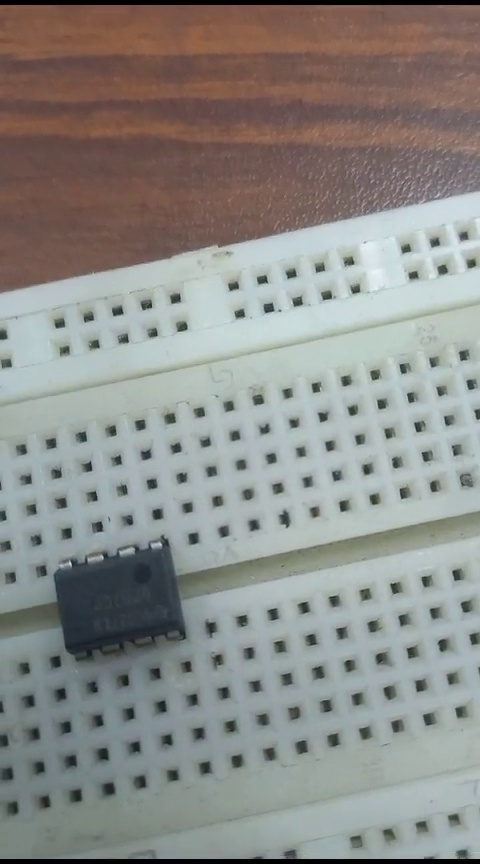IC: (39, 548, 207, 653)
